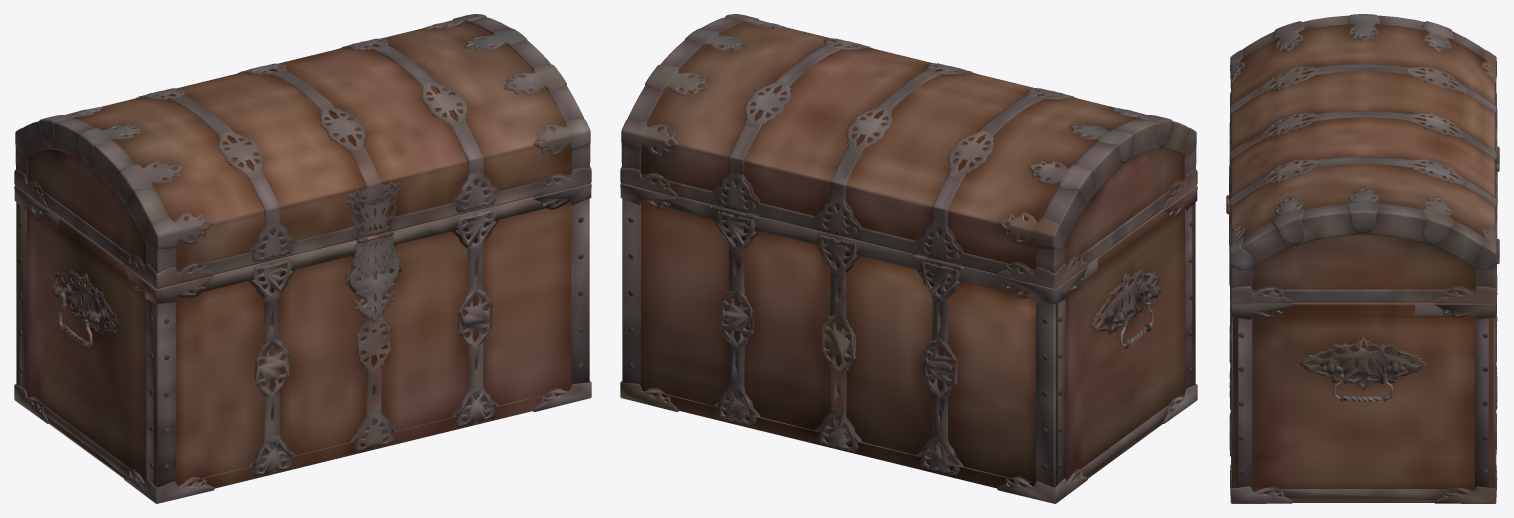
The picture shows the model from 3 angles, left to right: view 1: azimuth 30°, elevation 25°; view 2: azimuth 150°, elevation 25°; view 3: azimuth 270°, elevation 25°; orthographic projection. The views are drawn at different scales.
Visible parts, largest first — view 1: treasure_chest_bottom, treasure_chest_lid, treasure_chest_lock, treasure_chest_handle_left; view 2: treasure_chest_bottom, treasure_chest_lid; view 3: treasure_chest_lid, treasure_chest_bottom, treasure_chest_handle_right.
Part boxes in pixels (left/top/right/bottom): treasure_chest_bottom: left=14, top=183, right=591, bottom=503; treasure_chest_lid: left=14, top=14, right=591, bottom=288; treasure_chest_lock: left=349, top=233, right=399, bottom=322; treasure_chest_handle_left: left=50, top=285, right=100, bottom=348; treasure_chest_bottom: left=620, top=183, right=1197, bottom=503; treasure_chest_lid: left=620, top=14, right=1197, bottom=288; treasure_chest_lid: left=1226, top=14, right=1499, bottom=303; treasure_chest_bottom: left=1229, top=152, right=1499, bottom=503; treasure_chest_handle_right: left=1320, top=365, right=1406, bottom=402.
Size of the model in its own units: 0.959 by 0.6184 by 0.5229.
Materials: 1 (1 with a texture image).
